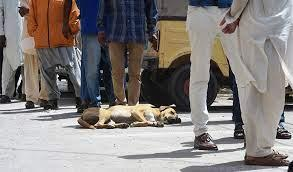normal_dogs: (78, 104, 184, 132)
